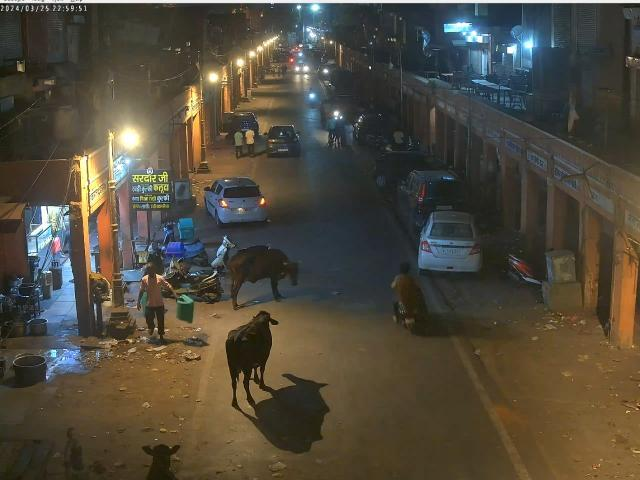car: (396, 171, 470, 229), (418, 211, 484, 274), (204, 176, 269, 226), (264, 125, 300, 156)
cattle: (223, 307, 280, 407), (224, 246, 300, 305), (136, 441, 184, 480)
license_plate: (442, 248, 462, 254), (436, 205, 453, 210), (237, 208, 252, 212)
no_helmet: (398, 261, 410, 274)
person: (134, 262, 177, 338)
scooty: (162, 260, 224, 302), (159, 222, 207, 263), (505, 248, 548, 289), (140, 242, 190, 276)
scooty-rider: (389, 262, 429, 332)
